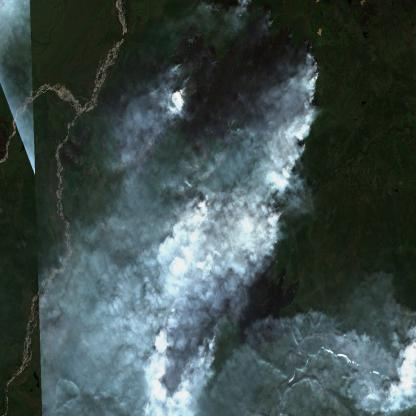fire: (150, 189, 287, 408), (262, 40, 322, 178), (172, 68, 203, 113)
